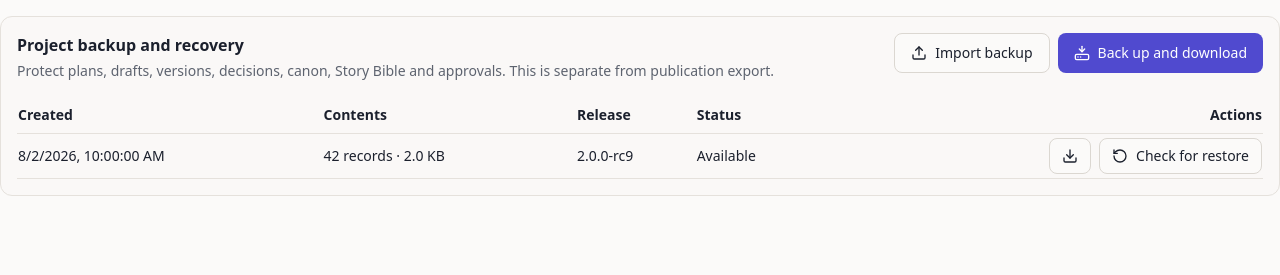
Test: ProjectBackupPanel › keeps a failed download visible and explains that saved work is safe
Click the button named "Download backup": (1070, 156) [1049, 138, 1091, 174]
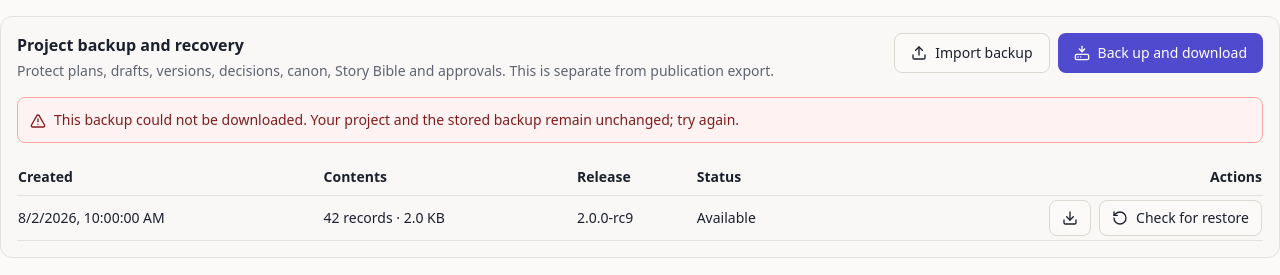
Check: the message shows "project and the stored backup remain unchanged", box [54, 110, 739, 129]
